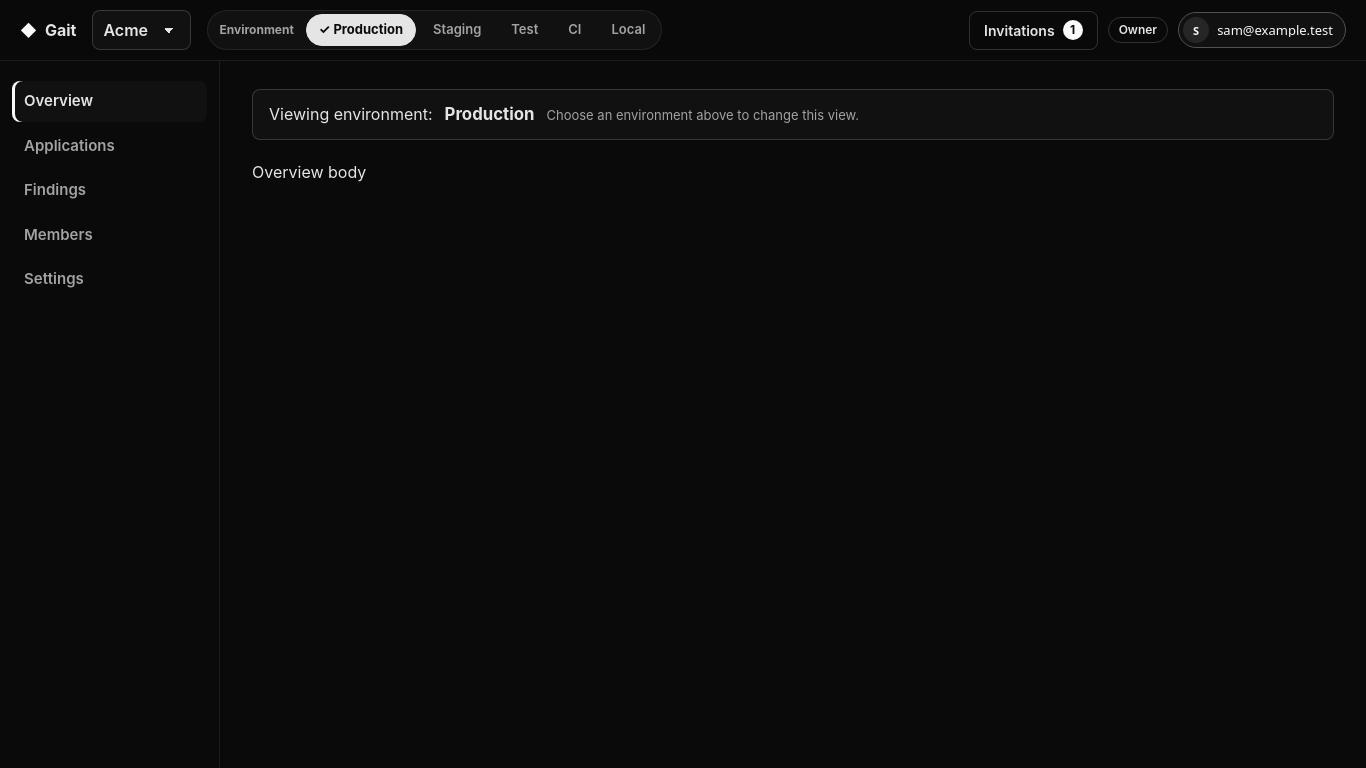
console: invitations for people who already have a workspace › pending: the top bar shows how many; joining moves to the new workspace and closes the dialog
The image size is (1366, 768).
Click the button with aria-label "Invitations: 1 pending".
click(1033, 30)  # box [969,10,1098,50]
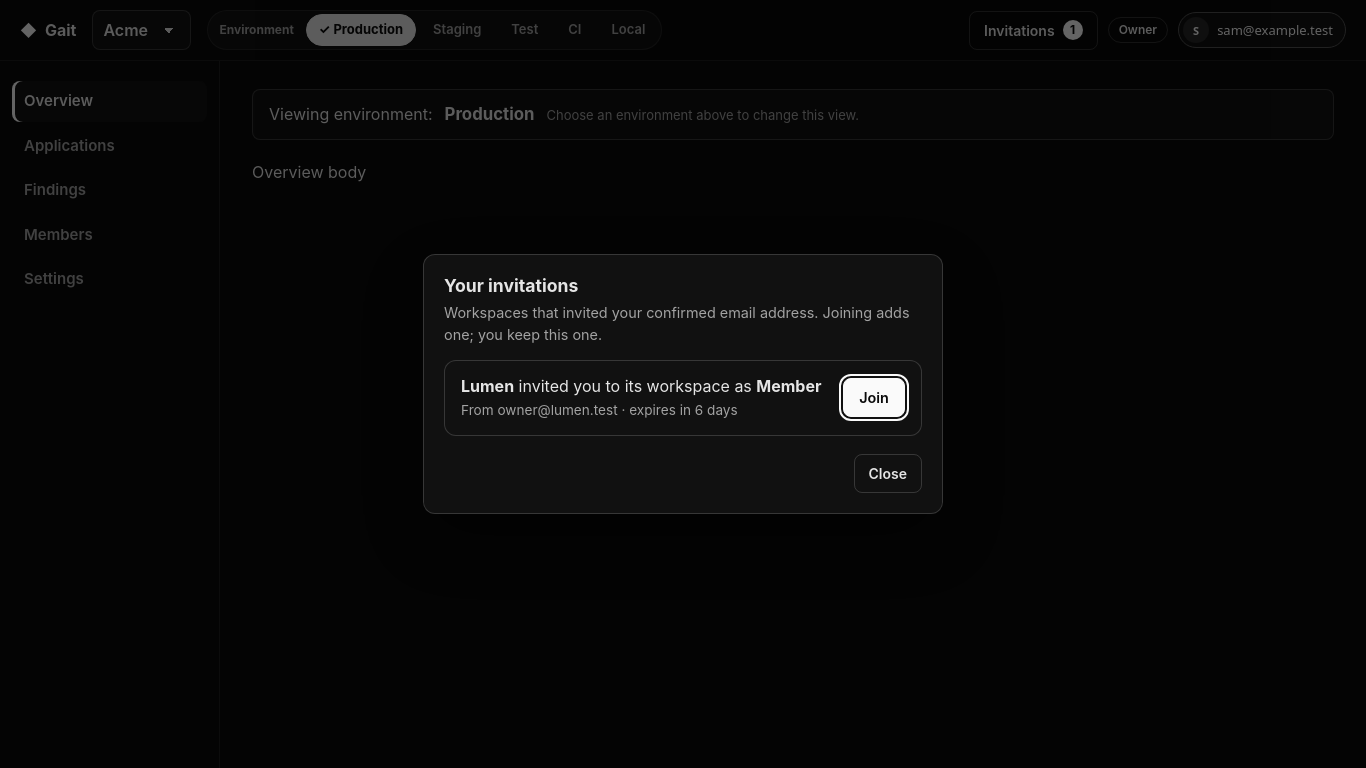
Click the button with aria-label "Join Lumen".
click(874, 398)  # box [843,378,905,417]
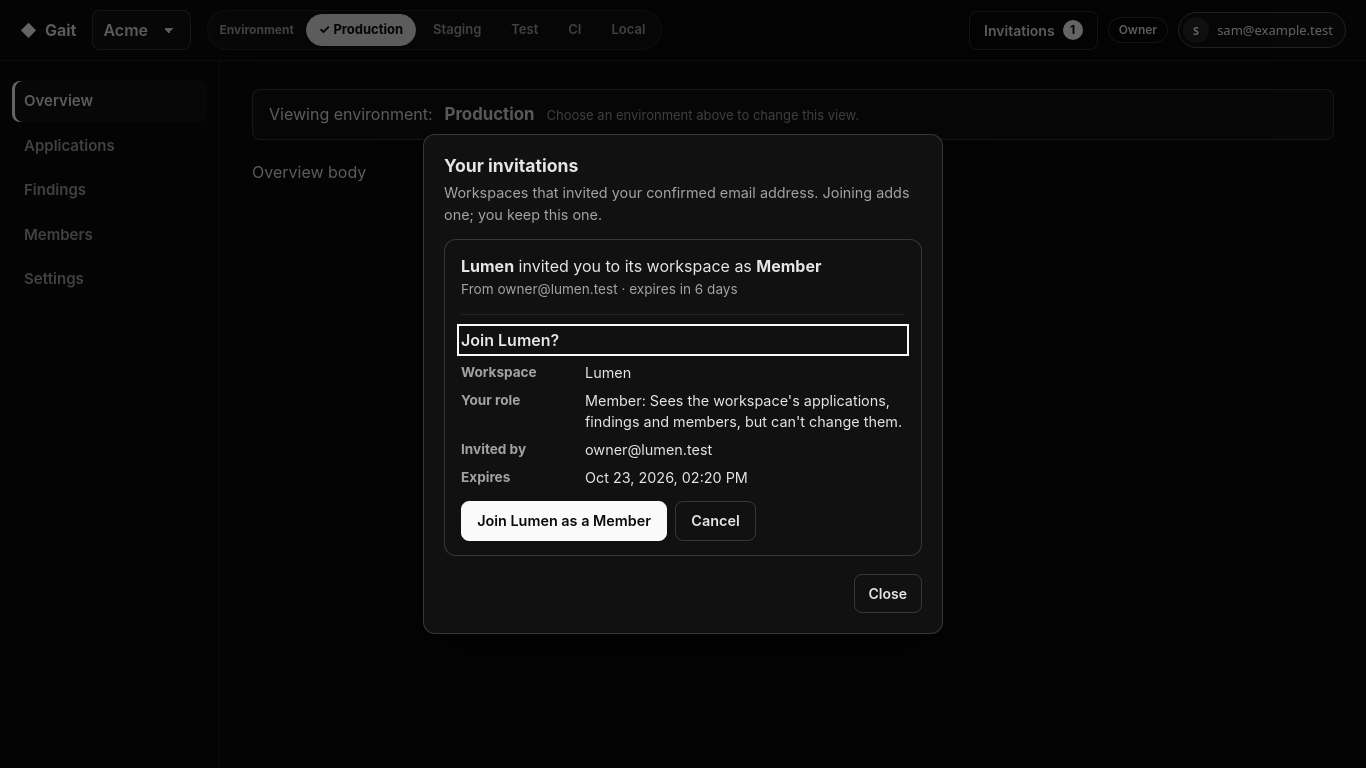
Click the button "Join Lumen as a Member".
click(564, 521)  # box [461,501,667,541]
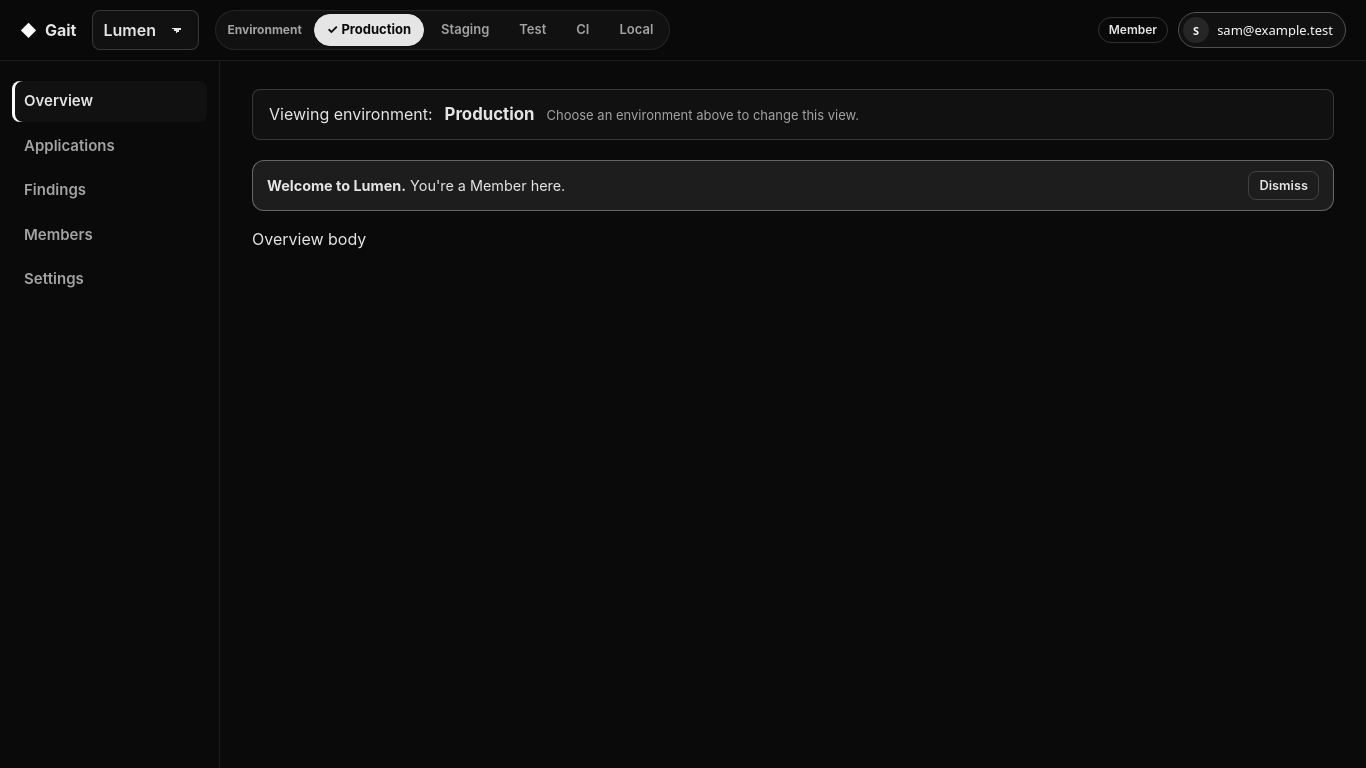
Result: the dialog is gone
Result: the text "Welcome to Lumen." is shown at [267,177,406,194]
Result: the button "Invitations" is gone
